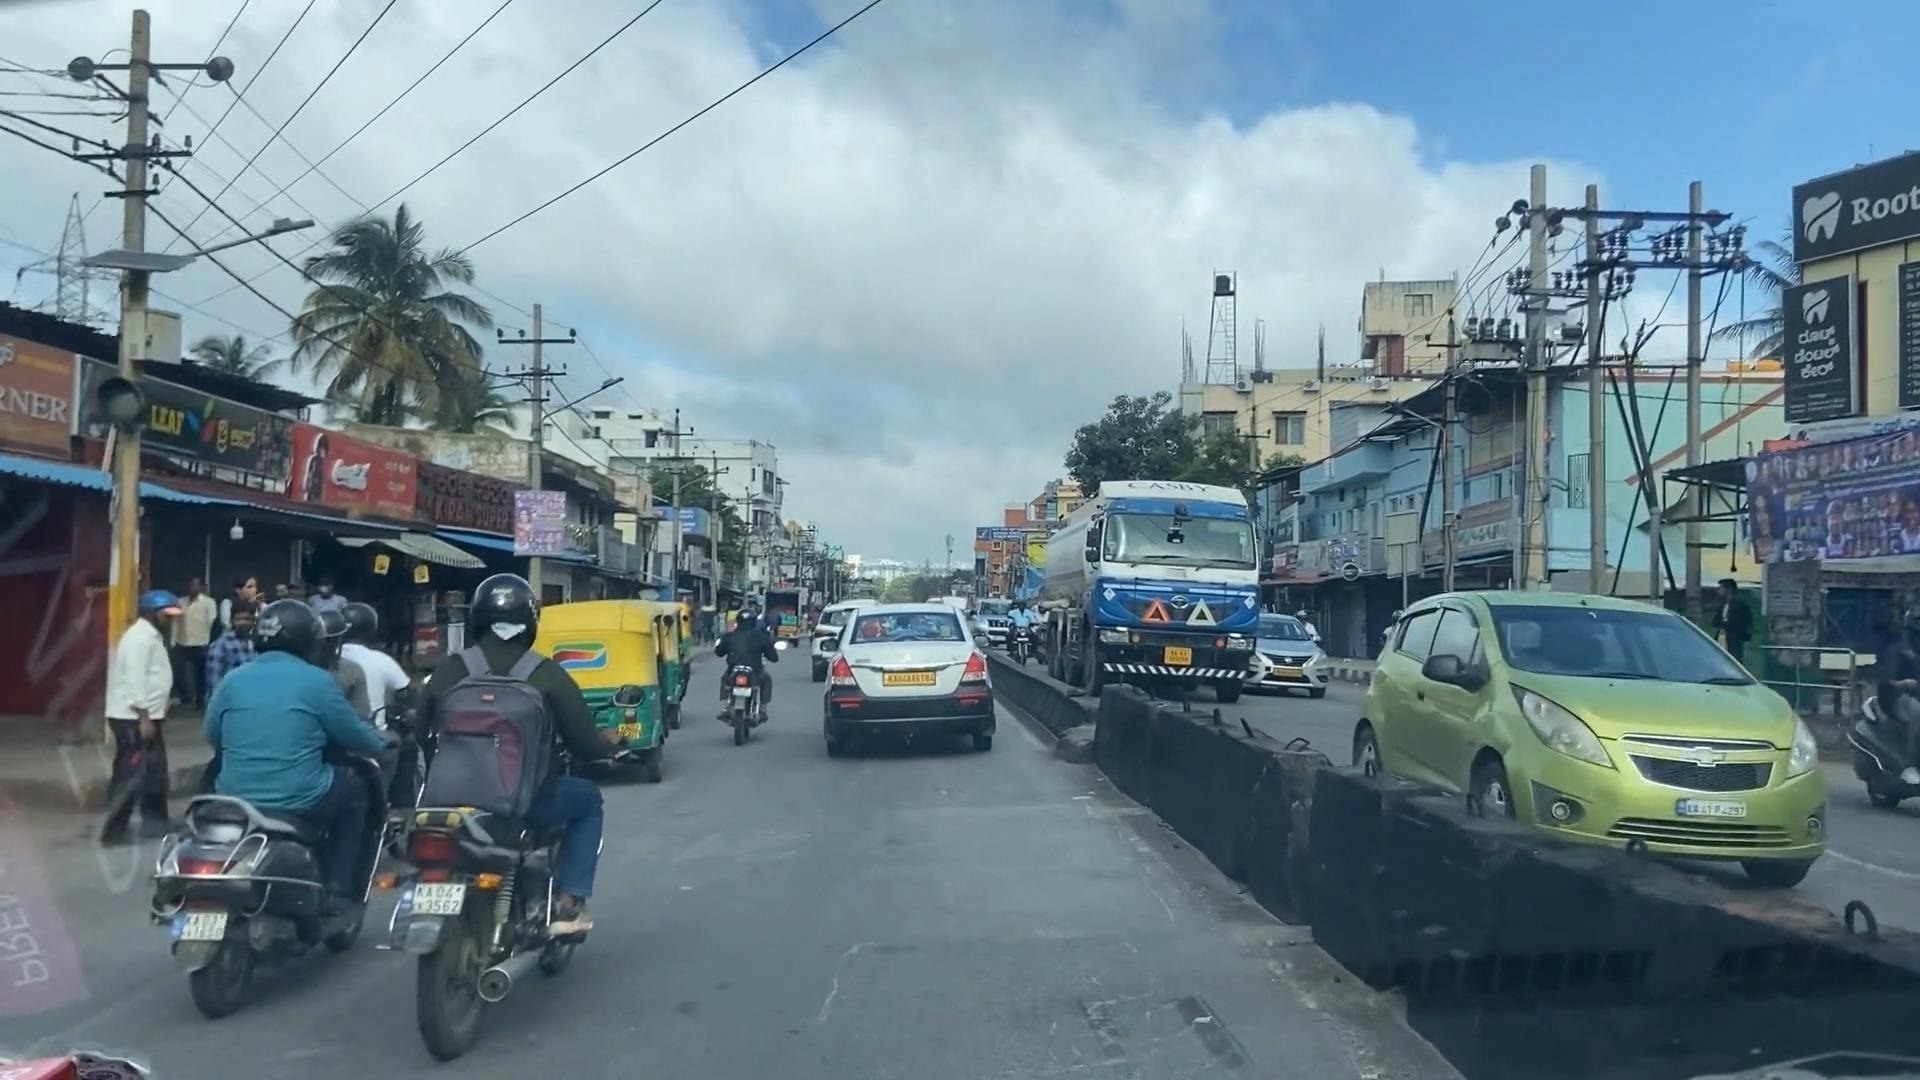LMV: (378, 570, 571, 1056), (129, 578, 328, 1021), (827, 601, 992, 756), (538, 604, 671, 777), (720, 613, 777, 741)
